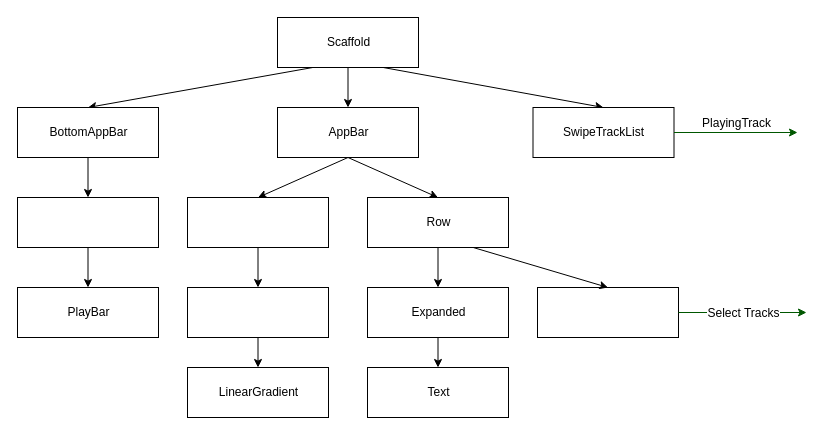
Image size: 832x435. Some labels were removed from this diagram. Each missing label, with the centre of its shape:
BoxDecoration: point 257,312
Container: point 257,222
IconButton: point 607,312
SizedBox: point 87,222
